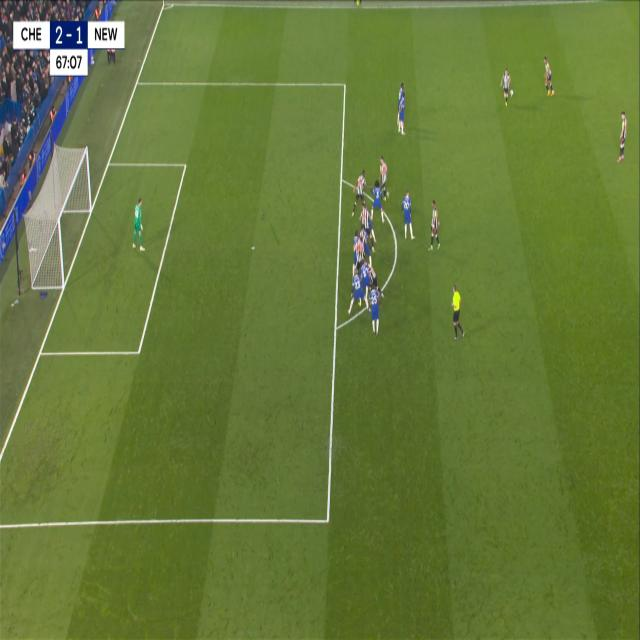Chelsea: (364, 275, 386, 341), (346, 262, 368, 316), (399, 185, 417, 243), (368, 176, 387, 226), (394, 78, 408, 137)
New castle: (129, 192, 148, 258), (426, 194, 441, 254), (500, 56, 514, 118), (615, 110, 629, 164), (540, 50, 554, 100)
Refree: (448, 278, 467, 344)
